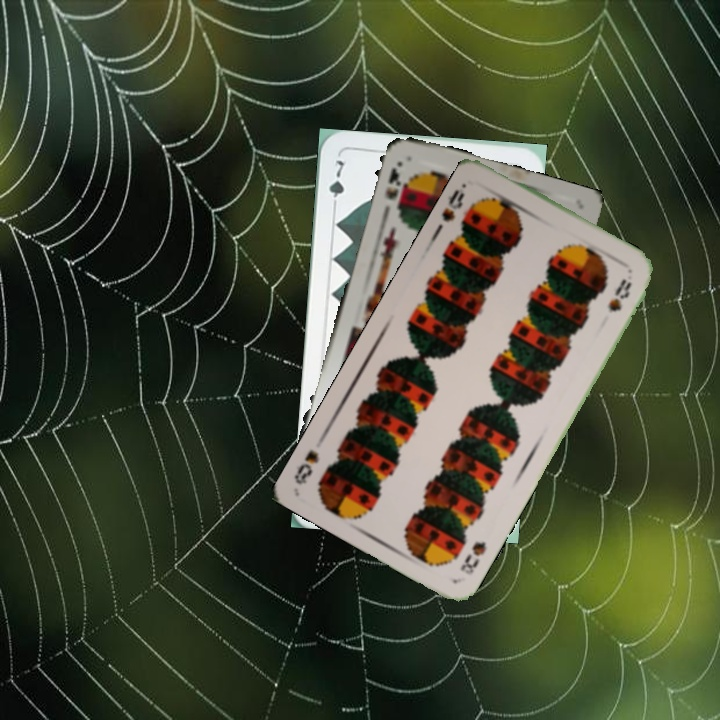G7: (325, 156, 347, 213)
S8: (456, 536, 489, 578), (438, 185, 468, 225)
SK: (381, 163, 403, 202)
